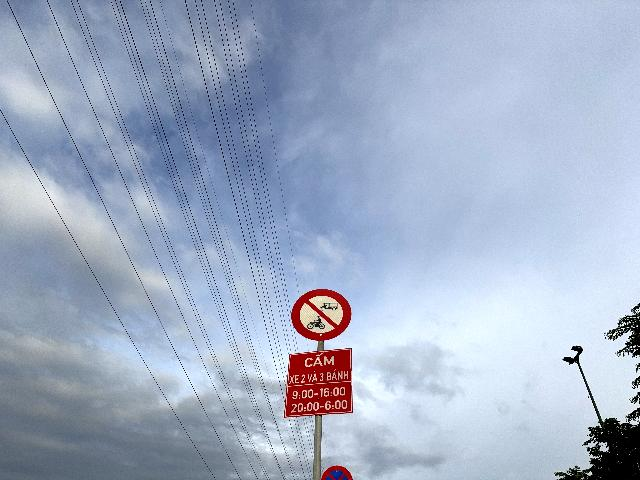cam-xe-2-banh-3-banh: (291, 289, 352, 341)
